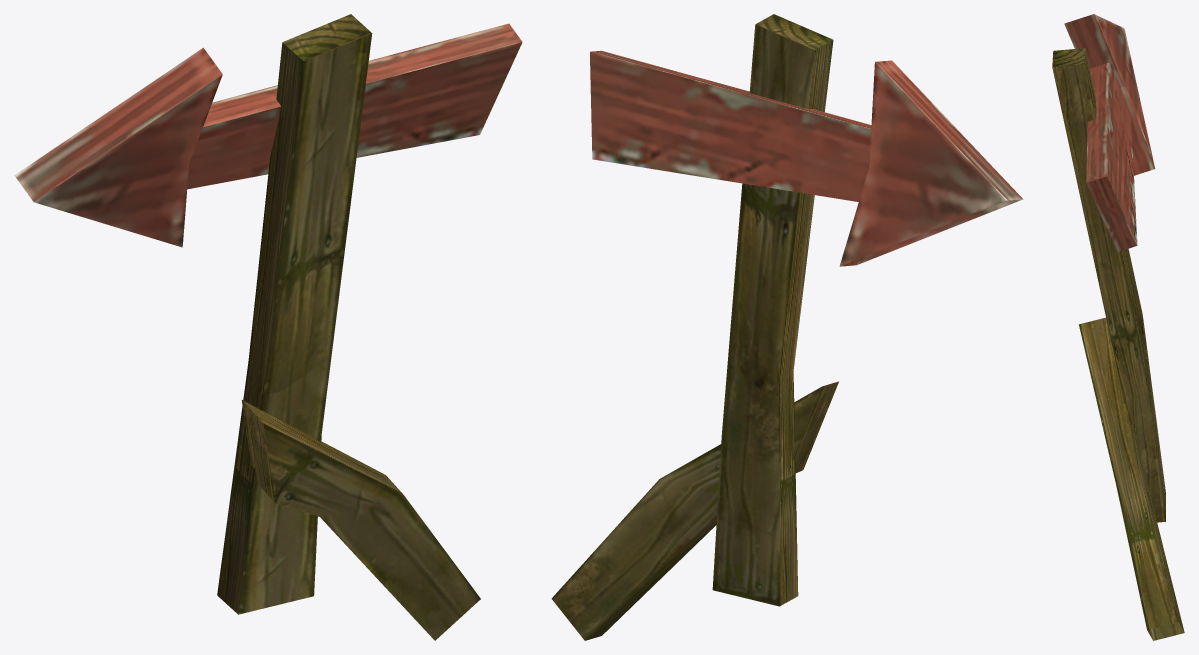
Rendered from SL_lupai01.FBX.
3 renders of one model, left to right at view 1: azimuth 30°, elevation 25°; view 2: azimuth 150°, elevation 25°; view 3: azimuth 270°, elevation 25°, orthographic. The views are drawn at different scales.
Parts seen in each view (by area): view 1: Box10, Box09, Box11; view 2: Box09, Box10, Box11; view 3: Box10, Box09, Box11.
Part boxes in pixels (x1,y1,x2,y2): Box10: [217, 14, 372, 614]; Box09: [14, 23, 522, 247]; Box11: [241, 400, 480, 640]; Box09: [590, 50, 1022, 266]; Box10: [712, 14, 833, 606]; Box11: [551, 381, 838, 640]; Box10: [1052, 48, 1165, 522]; Box09: [1064, 14, 1155, 252]; Box11: [1079, 317, 1184, 640].
Bounding box in the file's own units: 1.15 × 1.58 × 0.3578.
2 materials, 2 textured.
